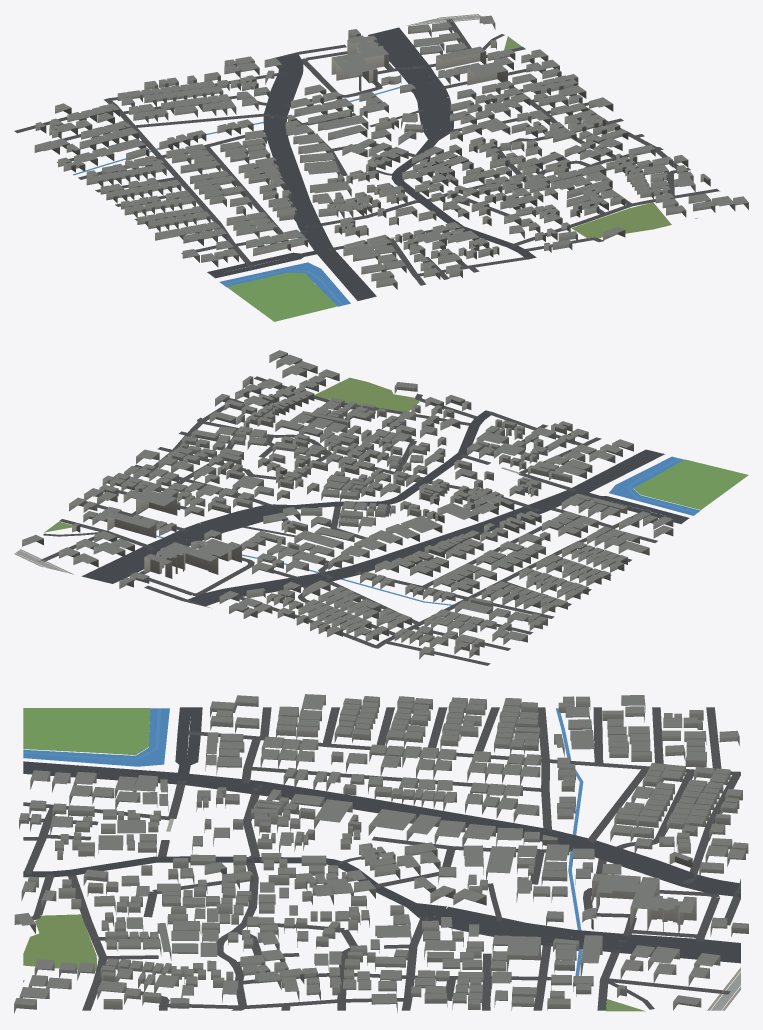
3 views of the same model, one above another, from view 1: azimuth 30°, elevation 25°; view 2: azimuth 150°, elevation 25°; view 3: azimuth 270°, elevation 25° (orthographic). The views are drawn at different scales.
Visible parts, largest first — view 1: building, ground, water; view 2: building, ground, water; view 3: building, ground, water.
Boxes of the visible parts, box(x1,y1,x2,y2) form: building: box(34, 15, 748, 289); ground: box(14, 14, 719, 321); water: box(73, 77, 439, 306); building: box(22, 350, 673, 659); ground: box(14, 370, 748, 665); water: box(156, 456, 700, 605); building: box(14, 694, 748, 1013); ground: box(23, 707, 740, 1011); water: box(23, 708, 583, 975).
Size of the model in its own units: 513 by 18 by 512.
